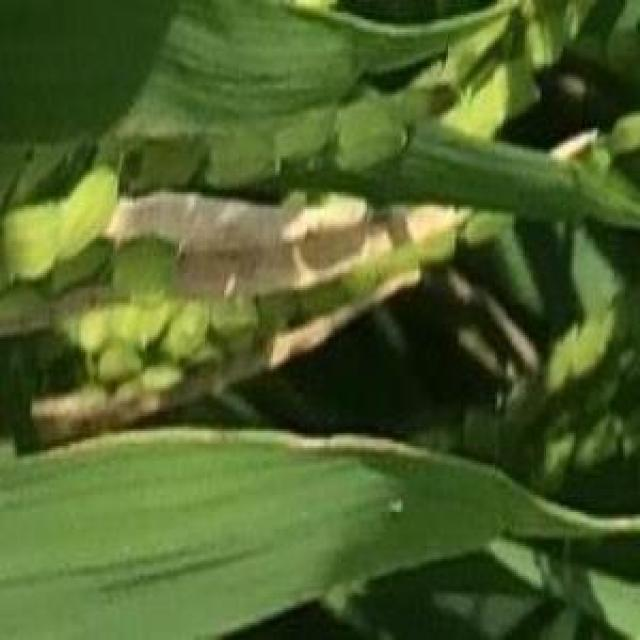Bacterial_Blight: (2, 133, 596, 335)
